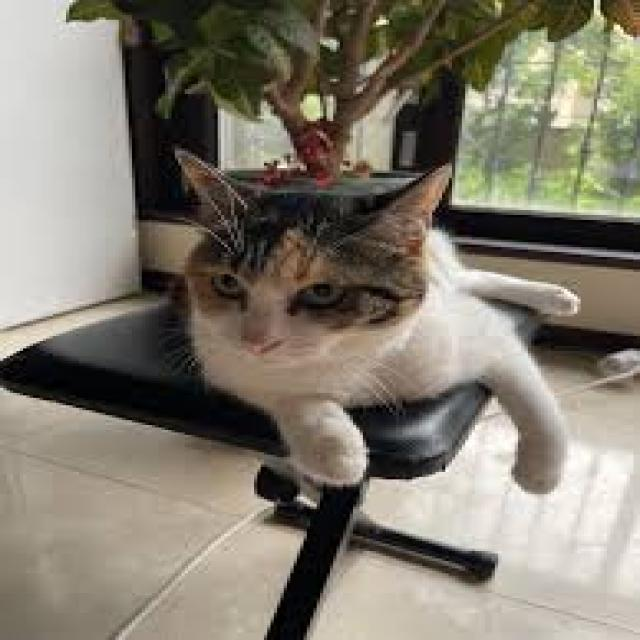dogs: (88, 124, 621, 545)
